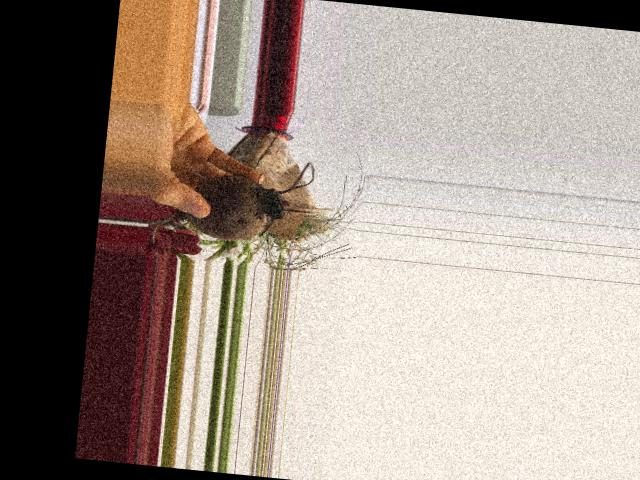beet: (152, 147, 316, 258)
